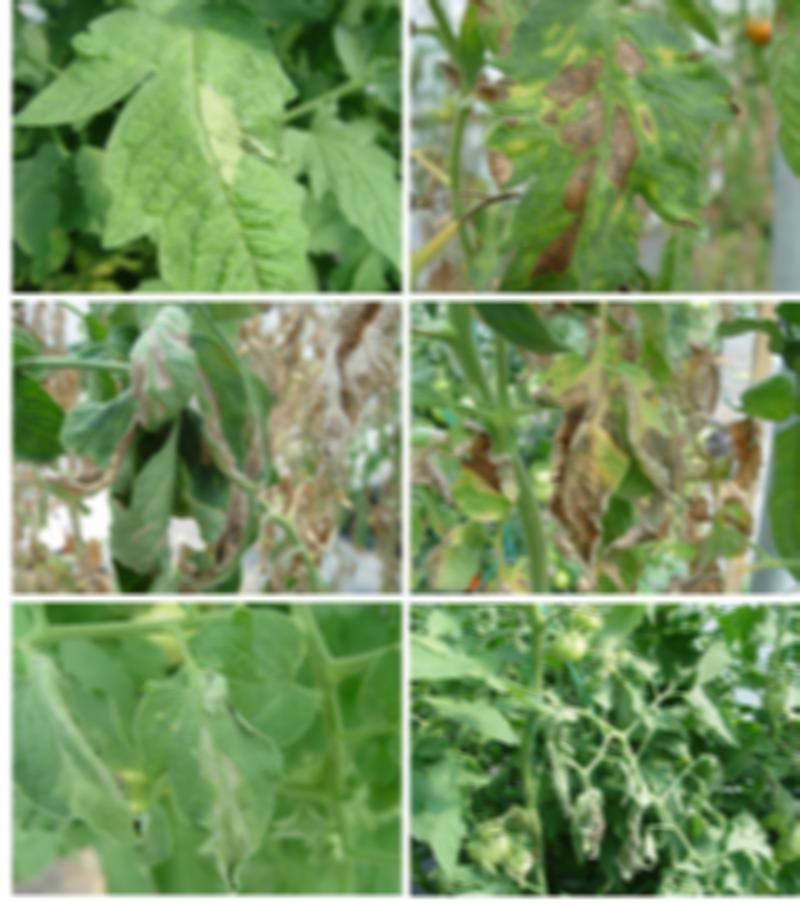Tomato leaf bacterial spot: (480, 6, 724, 282)
